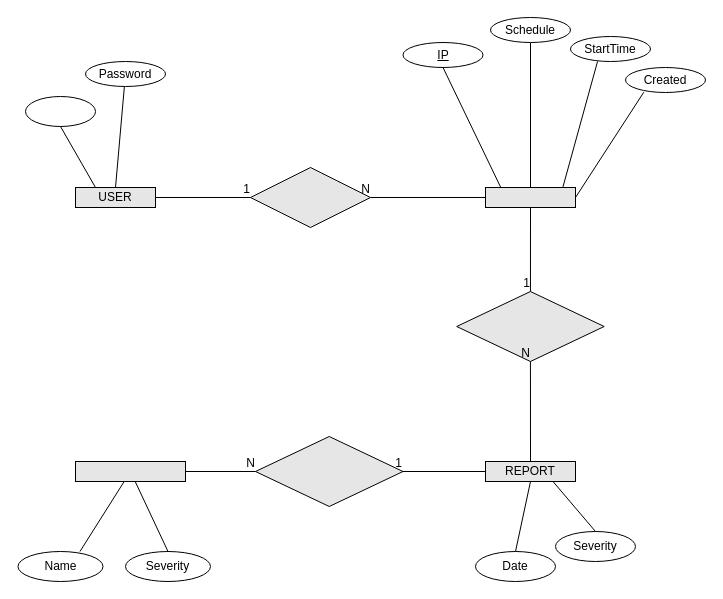
Some shapes in this 723 by 599 pixel diagram are drawn without their labels. The box of each missing label's shape, as (x1, y1, x2, y2) in pixels:
CREATE: (250, 166, 370, 228)
DOCUMENT: (254, 436, 403, 506)
GENERATE: (456, 290, 604, 362)
ID: (24, 96, 96, 126)
TARGET: (484, 186, 576, 208)
VULNERABILITY: (74, 460, 186, 482)
